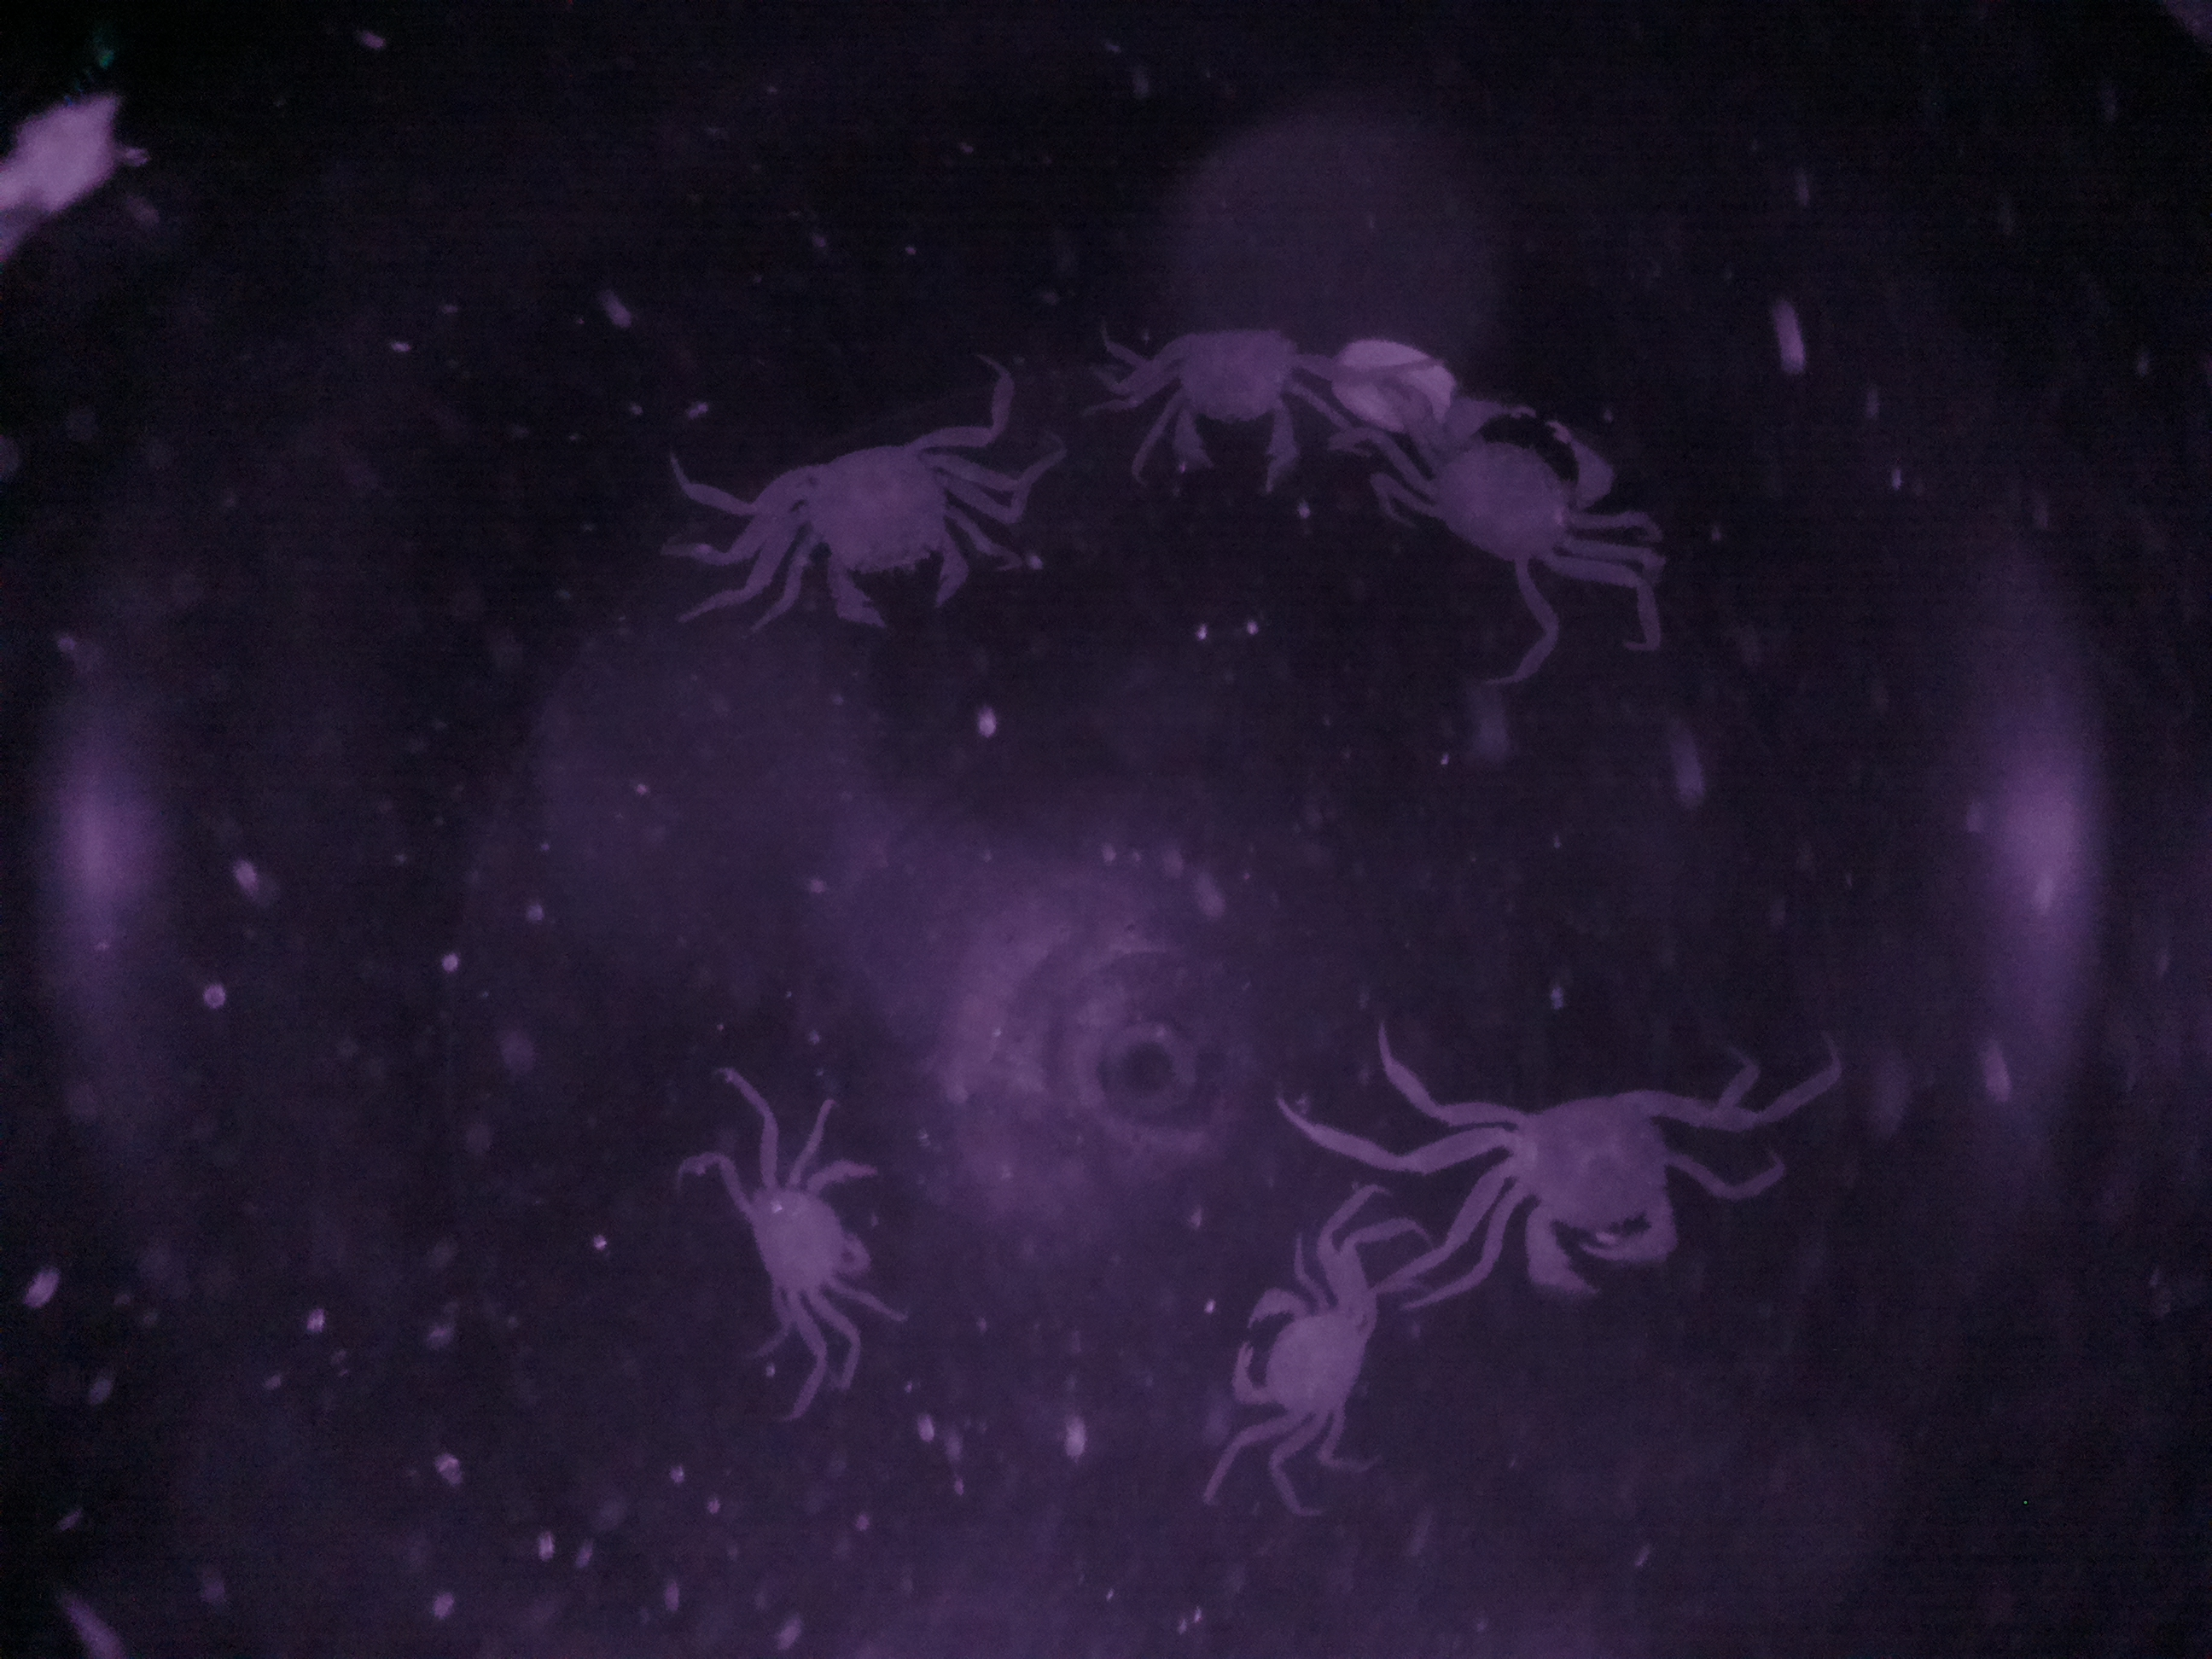Crab: (1435, 1063, 1745, 1307), (742, 413, 1001, 650), (1372, 375, 1646, 598), (1221, 1211, 1411, 1483), (1113, 310, 1343, 509), (721, 1129, 909, 1352)
